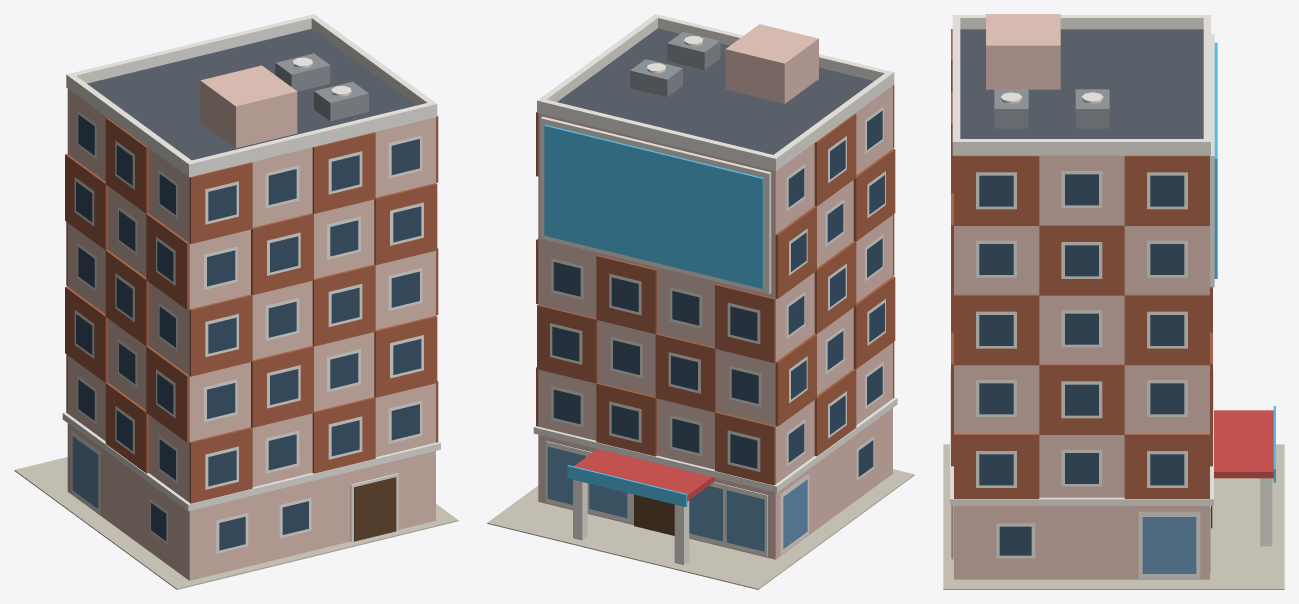
The picture shows the model from 3 angles, left to right: view 1: azimuth 30°, elevation 25°; view 2: azimuth 150°, elevation 25°; view 3: azimuth 270°, elevation 25°; orthographic projection. The views are drawn at different scales.
Visible parts, largest first — view 1: store, cladding_panel (×17), window_glass (×22), roof, parapet (×4), lift_housing, plaza, cornice, ac_unit_body (×2), door, storefront, storefront_frame (+1 smaller); view 2: store, cladding_panel (×13), sign (×2), roof, plaza, parapet (×4), window_glass (×12), storefront (×5), lift_housing, sign_border, cornice, canopy (+4 smaller); view 3: store, cladding_panel (×8), roof, window_glass (×16), plaza, parapet (×4), window_frame (×16), lift_housing, canopy, storefront, cornice, ac_unit_body (×2) (+4 smaller).
Boxes of the visible parts, left/top/right/bottom form: store: left=67, top=89, right=435, bottom=580; cladding_panel (×17): left=65, top=117, right=437, bottom=503; window_glass (×22): left=207, top=139, right=421, bottom=550; roof: left=87, top=29, right=416, bottom=160; parapet (×4): left=66, top=14, right=437, bottom=177; lift_housing: left=200, top=65, right=297, bottom=148; plaza: left=14, top=457, right=458, bottom=589; cornice: left=62, top=412, right=440, bottom=511; ac_unit_body (×2): left=275, top=53, right=368, bottom=121; door: left=354, top=477, right=396, bottom=541; storefront: left=72, top=436, right=98, bottom=508; storefront_frame: left=71, top=430, right=100, bottom=514; store: left=538, top=86, right=892, bottom=559; cladding_panel (×13): left=537, top=113, right=895, bottom=485; sign (×2): left=544, top=124, right=763, bottom=506; roof: left=557, top=28, right=873, bottom=154; plaza: left=487, top=469, right=914, bottom=589; parapet (×4): left=537, top=14, right=894, bottom=171; window_glass (×12): left=552, top=262, right=758, bottom=468; storefront (×5): left=547, top=446, right=807, bottom=551; lift_housing: left=725, top=24, right=818, bottom=103; sign_border: left=540, top=116, right=771, bottom=294; cornice: left=533, top=397, right=897, bottom=492; canopy: left=574, top=449, right=714, bottom=501; store: left=954, top=155, right=1209, bottom=579; cladding_panel (×8): left=954, top=155, right=1209, bottom=498; roof: left=960, top=29, right=1203, bottom=138; window_glass (×16): left=979, top=174, right=1184, bottom=555; plaza: left=943, top=444, right=1284, bottom=589; parapet (×4): left=952, top=15, right=1210, bottom=155; window_frame (×16): left=976, top=171, right=1187, bottom=558; lift_housing: left=986, top=14, right=1060, bottom=89; canopy: left=1214, top=410, right=1273, bottom=478; storefront: left=1142, top=517, right=1196, bottom=573; cornice: left=950, top=369, right=1213, bottom=505; ac_unit_body (×2): left=994, top=89, right=1109, bottom=128.
Bounding box in the file's own units: 16 × 24.4 × 16.
